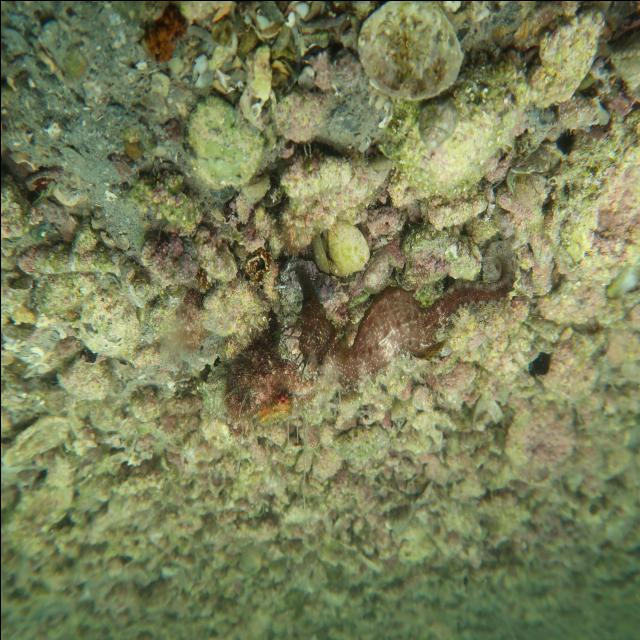Guttu: (284, 256, 339, 368)
